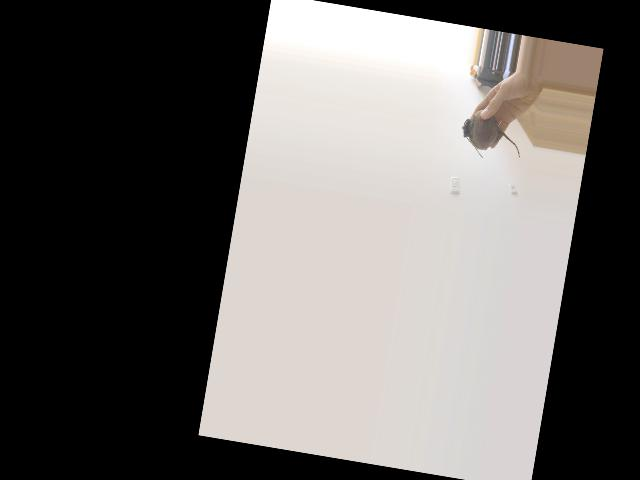beet: (457, 106, 526, 164)
